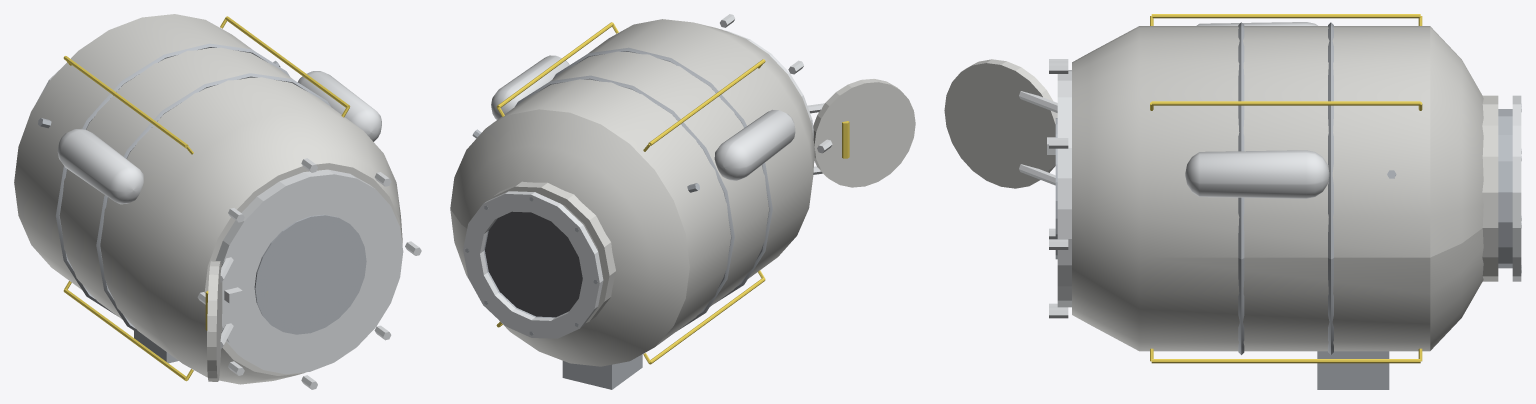
File: orbital-station-and-docking-bays-airlock-module-c38884f2__24535.glb
3 views of the same model, side by side, from view 1: azimuth 30°, elevation 25°; view 2: azimuth 150°, elevation 25°; view 3: azimuth 270°, elevation 25° (orthographic). The views are drawn at different scales.
Parts seen in each view (by area): view 1: airlock-module, hatch-eva (×2); view 2: airlock-module, hatch-eva; view 3: airlock-module, hatch-eva (×2).
Boxes of the visible parts, x1,y1,x2,y2 form: airlock-module: [14, 14, 421, 389]; hatch-eva (×2): [207, 257, 242, 381]; airlock-module: [450, 14, 832, 389]; hatch-eva: [813, 79, 915, 187]; airlock-module: [1049, 14, 1521, 389]; hatch-eva (×2): [944, 59, 1057, 188].
Bounding box in the file's own units: 3.85 × 3.87 × 6.01.
